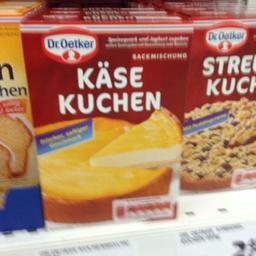cake: (20, 14, 186, 231), (177, 10, 255, 193)
